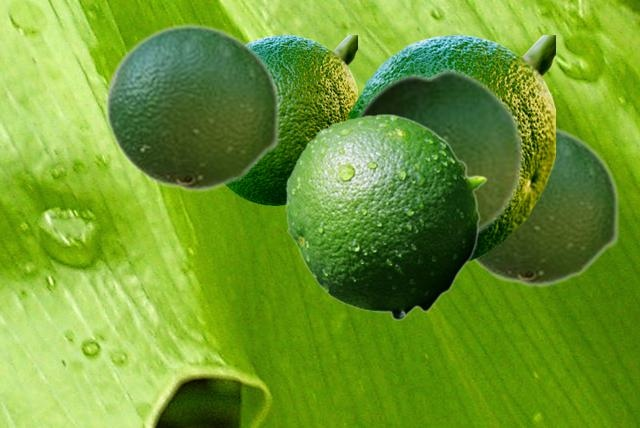dalandan: (344, 35, 554, 263), (285, 113, 486, 320), (104, 23, 280, 192), (354, 66, 524, 236), (473, 123, 619, 287), (227, 35, 356, 204)
